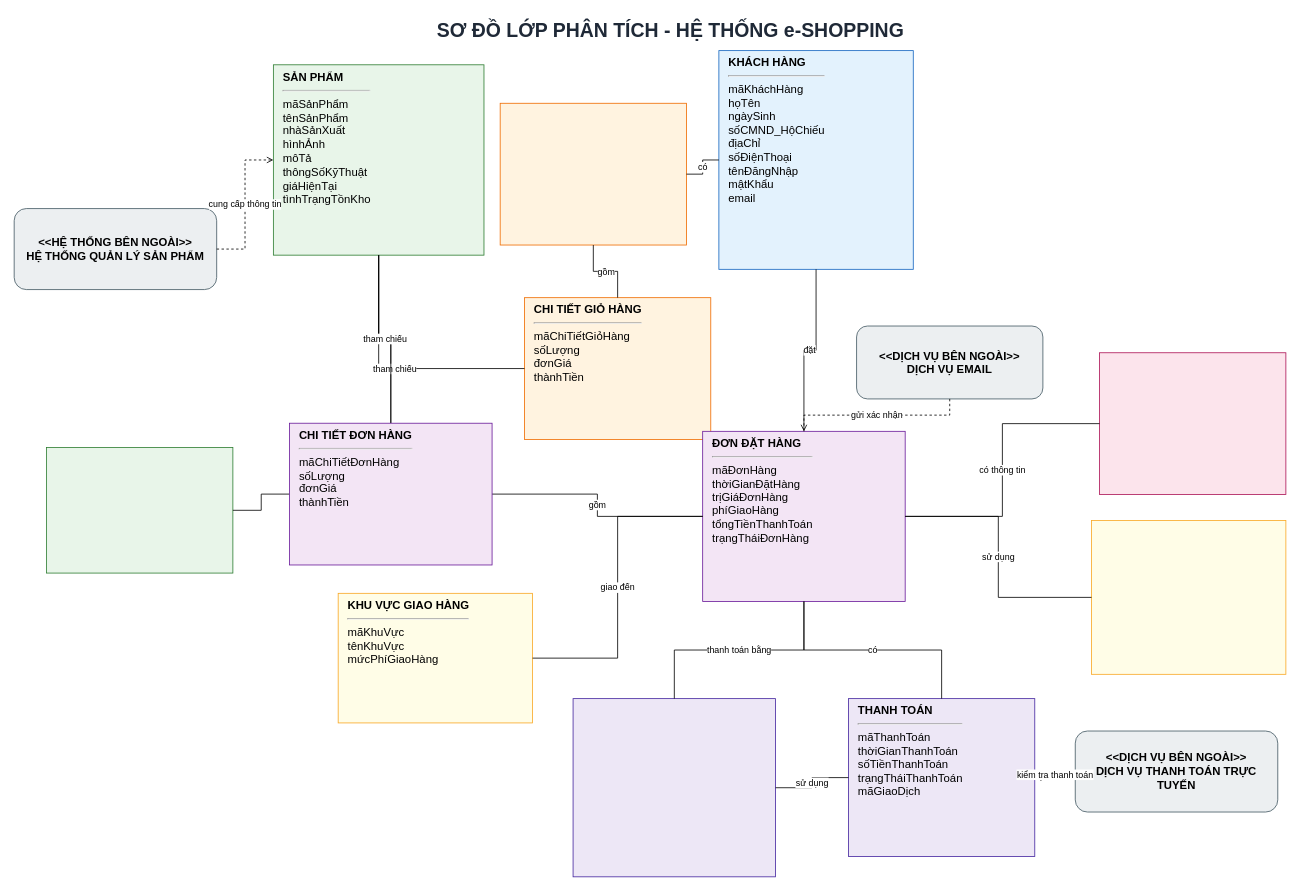
Some shapes in this 1300 by 891 pixel diagram are drawn without their labels. The shapes that lost their labels are listed below. From the top down, each one's centre as x and y in pixels, then its label:
[592,173]: GIỎ HÀNG mãGiỏHàng ngàyTạo trạngThái tổngTiền
[1192,423]: NGƯỜI NHẬN mãNgườiNhận họTên địaChỉ sốĐiệnThoại
[139,510]: NHÓM SẢN PHẨM mãNhómSảnPhẩm tênNhóm môTả
[1188,597]: LOẠI GIAO HÀNG mãLoạiGiaoHàng tênLoạiGiaoHàng thờiGianXửLý đơnGiáGiaoHàng
[674,787]: THẺ TÍN DỤNG mãThẻ loạiThẻ sốThẻ ngàyHếtHạn tênChủThẻ mãBảoMật phíGiaoDịch
